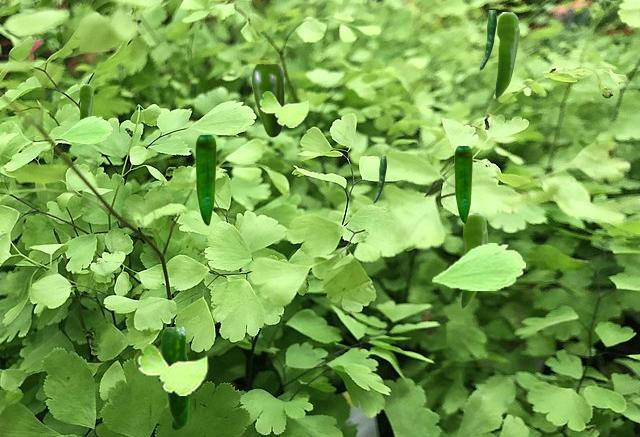green_chili: (161, 327, 188, 429), (461, 213, 486, 307), (252, 64, 283, 136), (495, 12, 518, 97), (195, 135, 215, 224), (454, 146, 471, 222), (479, 10, 495, 69), (373, 156, 385, 202), (78, 84, 92, 119)
